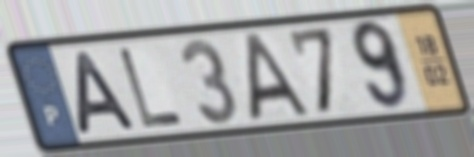3: (178, 34, 241, 128)
7: (286, 23, 341, 118)
9: (346, 16, 413, 115)
A: (243, 30, 313, 125), (73, 48, 141, 137)
L: (115, 45, 188, 131)
